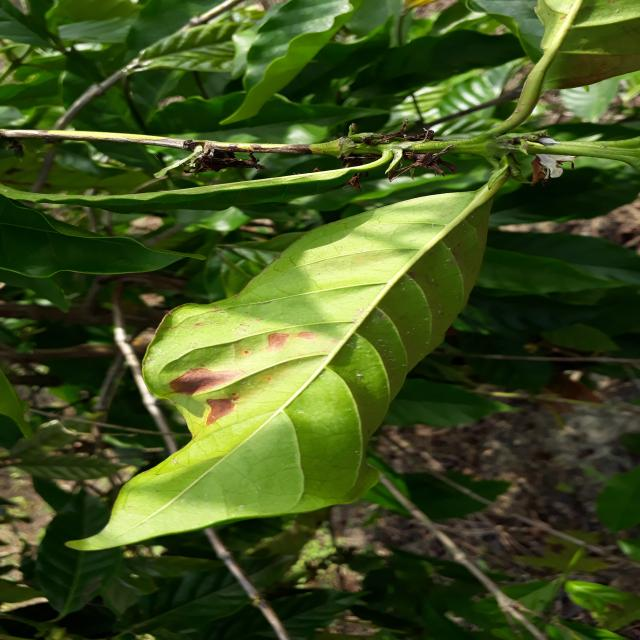Plaga-AranaRoja: (68, 168, 507, 555)
